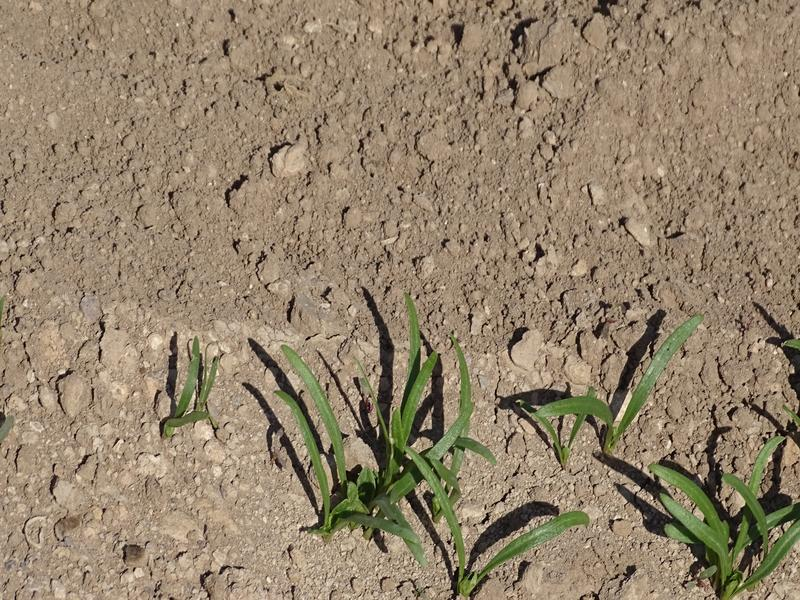Espinaca: (255, 302, 535, 593), (548, 320, 690, 448), (658, 456, 800, 579), (155, 328, 226, 434)
